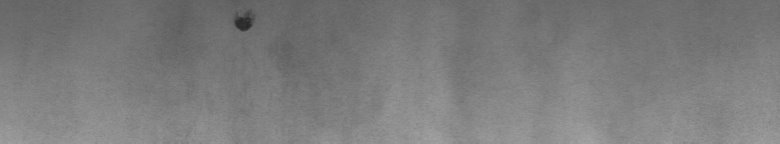fi: (228, 5, 259, 40)
